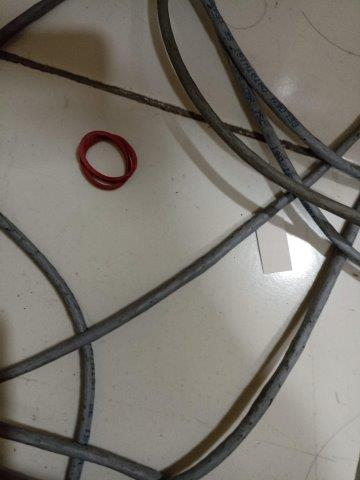karet: (77, 130, 138, 192)
